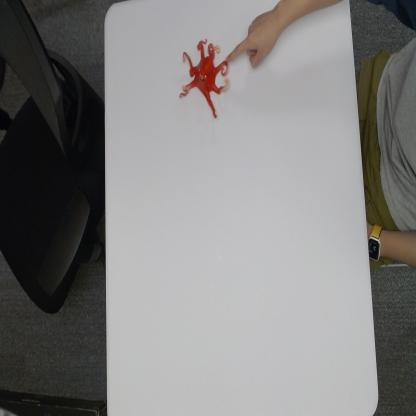Octopus: (178, 37, 230, 122), (225, 10, 285, 70)
